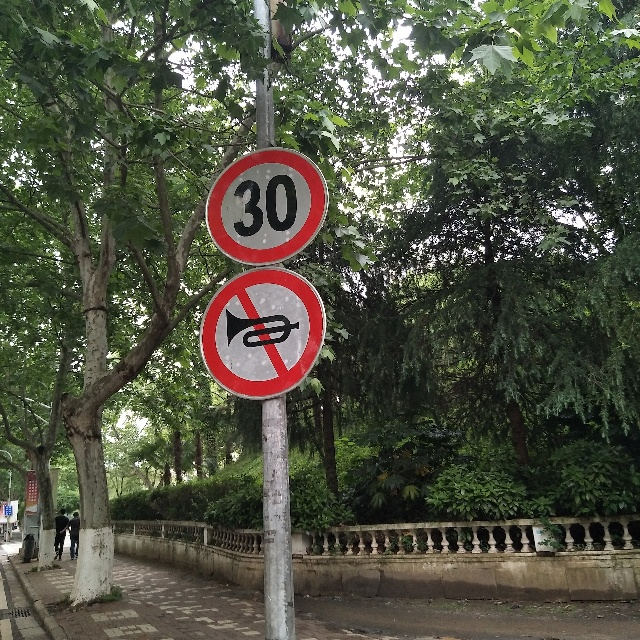nohonk: (199, 266, 324, 403)
